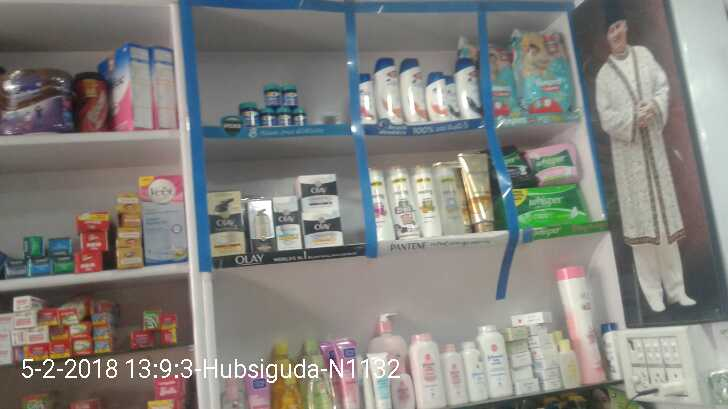vicks: (234, 76, 307, 132)
